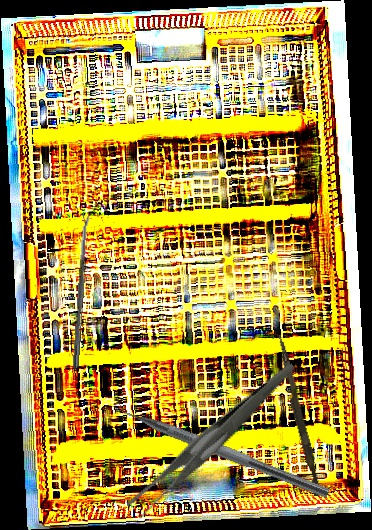Chopper: (105, 388, 336, 499)
Dressing Forceps: (101, 362, 325, 522)
Pusher: (271, 334, 326, 497)
Surgical Spoon: (72, 211, 91, 370)
